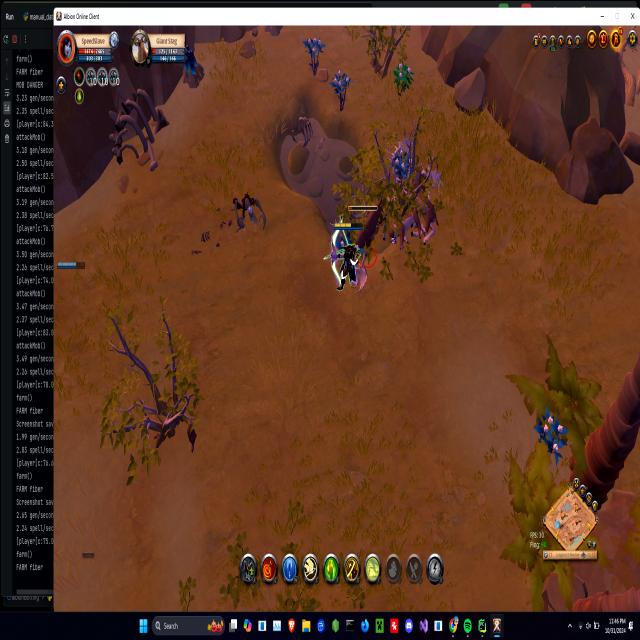hide: (536, 408, 568, 460), (388, 147, 411, 181), (304, 35, 324, 73), (331, 68, 350, 107), (393, 60, 412, 93)
mob: (407, 162, 441, 248), (387, 206, 421, 252)
ore: (340, 189, 388, 270), (231, 185, 271, 238)
player: (180, 41, 208, 92)
red: (333, 221, 363, 292), (54, 259, 84, 270)
